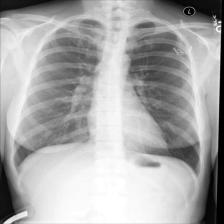normal: (7, 12, 207, 181)
